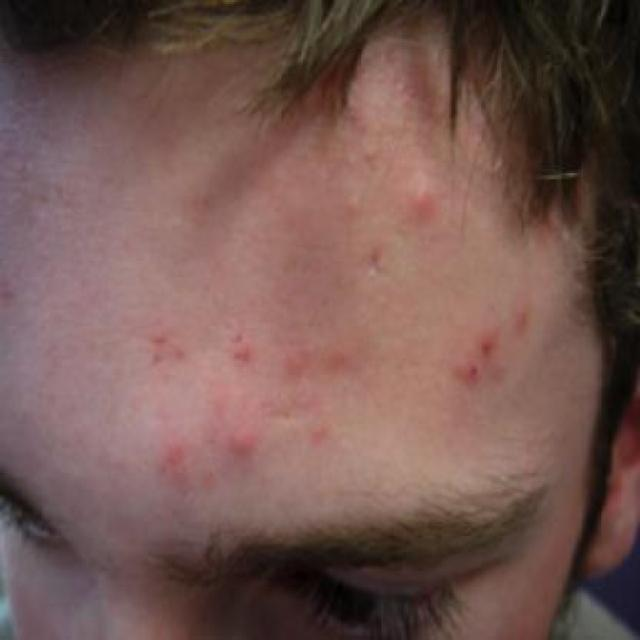blackheads: (446, 354, 489, 406)
nodules: (396, 159, 446, 245), (203, 412, 272, 469)
